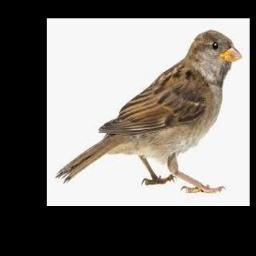Sparrow: (55, 30, 242, 193)
